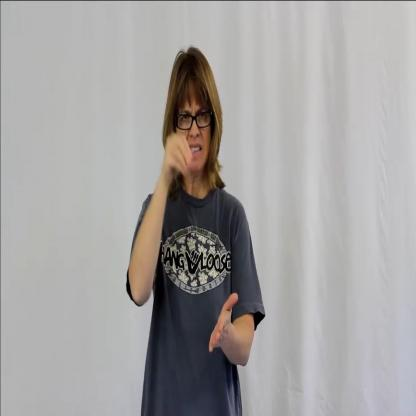Expensive: (126, 46, 265, 416)
